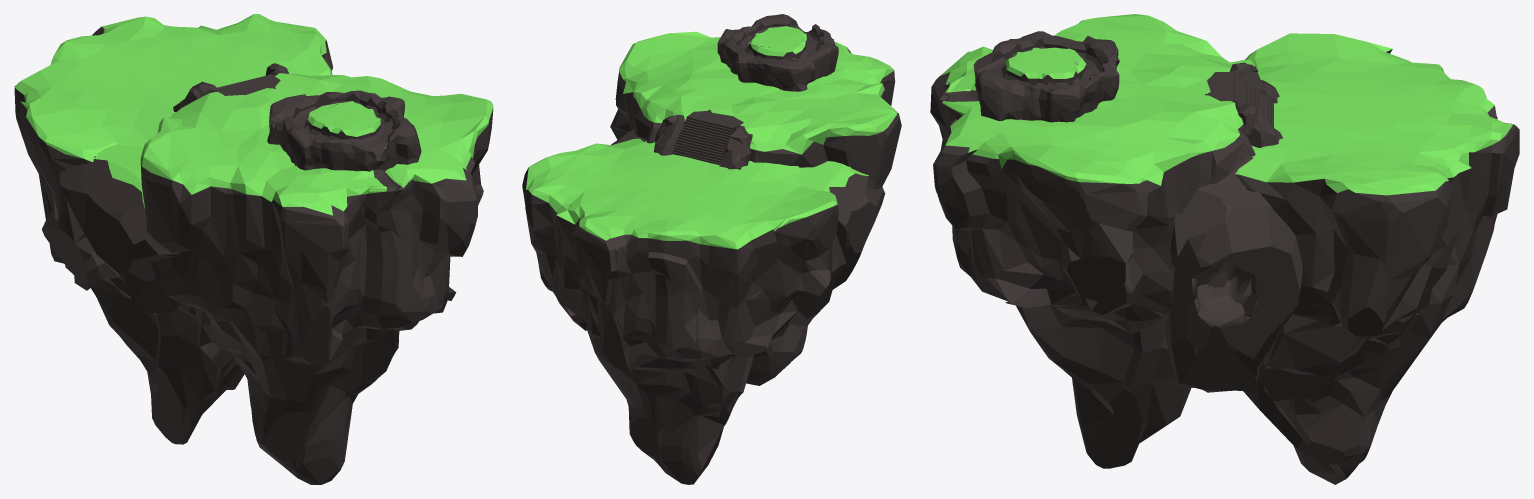
File: îlot_principal_2.fbx
3 renders of one model, left to right at view 1: azimuth 30°, elevation 25°; view 2: azimuth 150°, elevation 25°; view 3: azimuth 270°, elevation 25°, orthographic. The views are drawn at different scales.
Parts seen in each view (by area): view 1: Cube.015, Cube.024; view 2: Cube.015, Cube.024, Cube.026, Cube.025; view 3: Cube.015, Cube.024, Cube.025, Cube.026.
Boxes of the visible parts, box(x1,y1,x2,y2) form: Cube.015: box(14, 14, 493, 484); Cube.024: box(217, 74, 280, 95); Cube.015: box(522, 14, 901, 484); Cube.024: box(672, 109, 743, 164); Cube.026: box(719, 125, 752, 169); Cube.025: box(654, 115, 684, 155); Cube.015: box(930, 14, 1519, 484); Cube.024: box(1205, 72, 1273, 127); Cube.025: box(1235, 103, 1282, 147); Cube.026: box(1229, 62, 1279, 103).
Bounding box in the file's own units: 9661 × 11145 × 13624.
